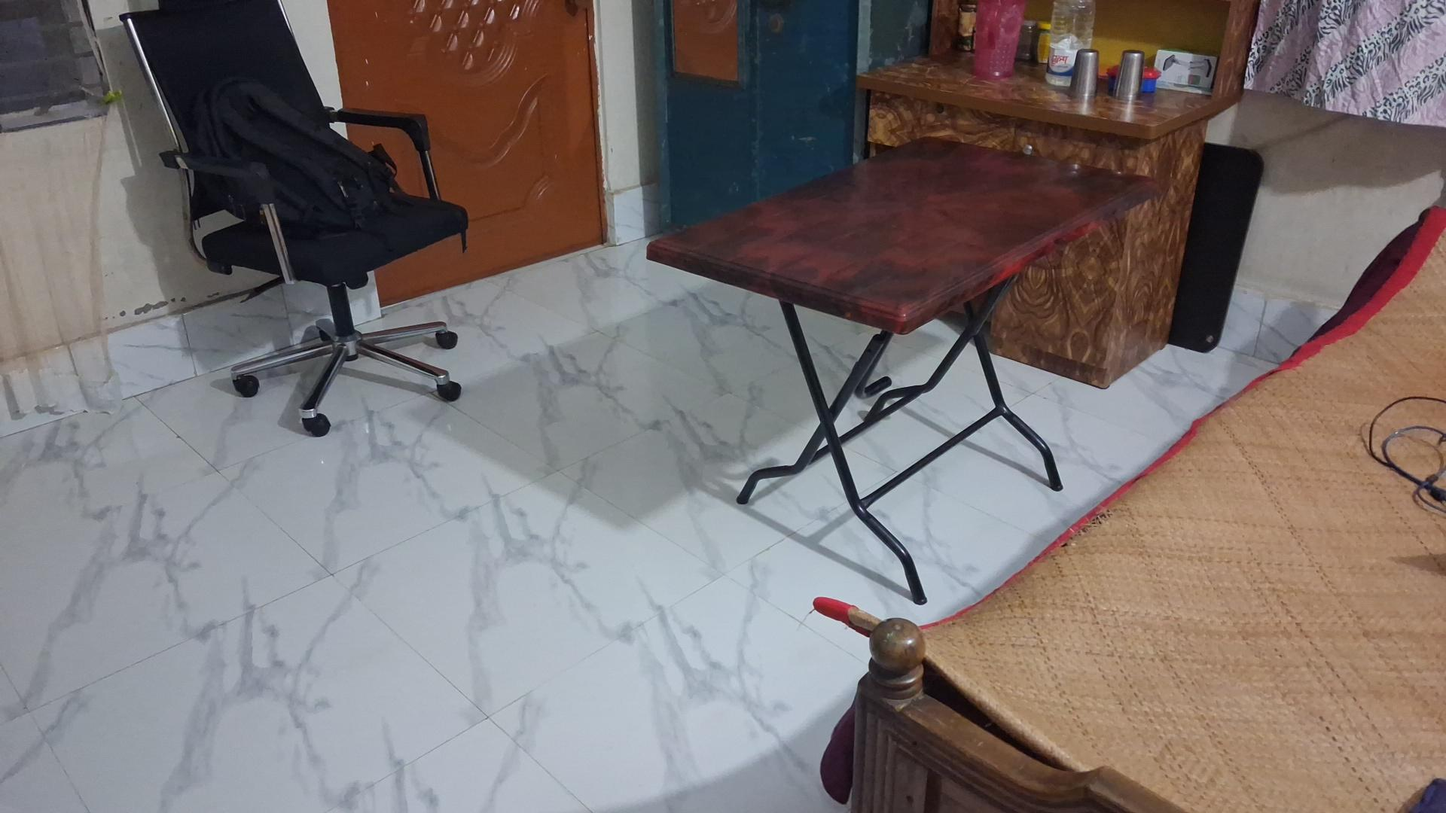Bottle: (1047, 0, 1092, 86)
Box: (1152, 47, 1218, 91)
Chair: (118, 0, 469, 435)
Glass: (1116, 50, 1145, 101), (1070, 49, 1099, 99), (1084, 44, 1086, 50)
Jar: (957, 1, 975, 51), (1032, 20, 1051, 64)
Jug: (973, 0, 1026, 79)
Table: (640, 135, 1161, 605)
